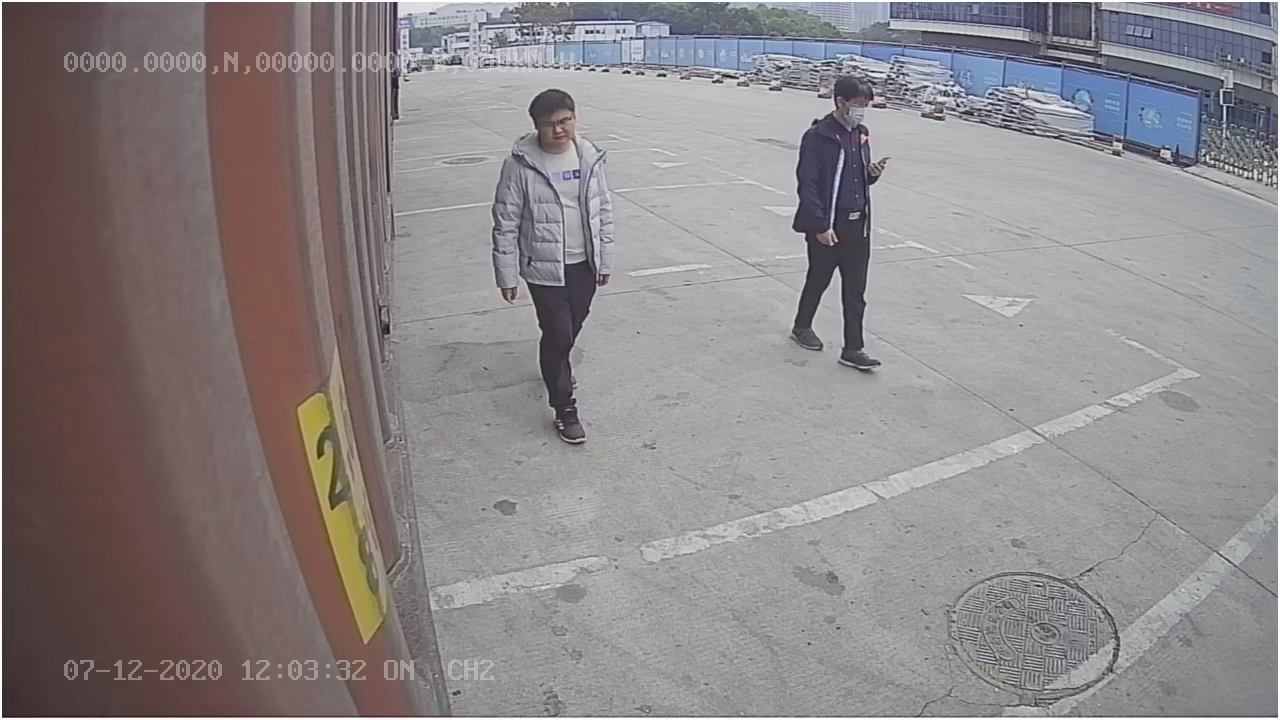person: (488, 79, 621, 444), (784, 74, 901, 373)
